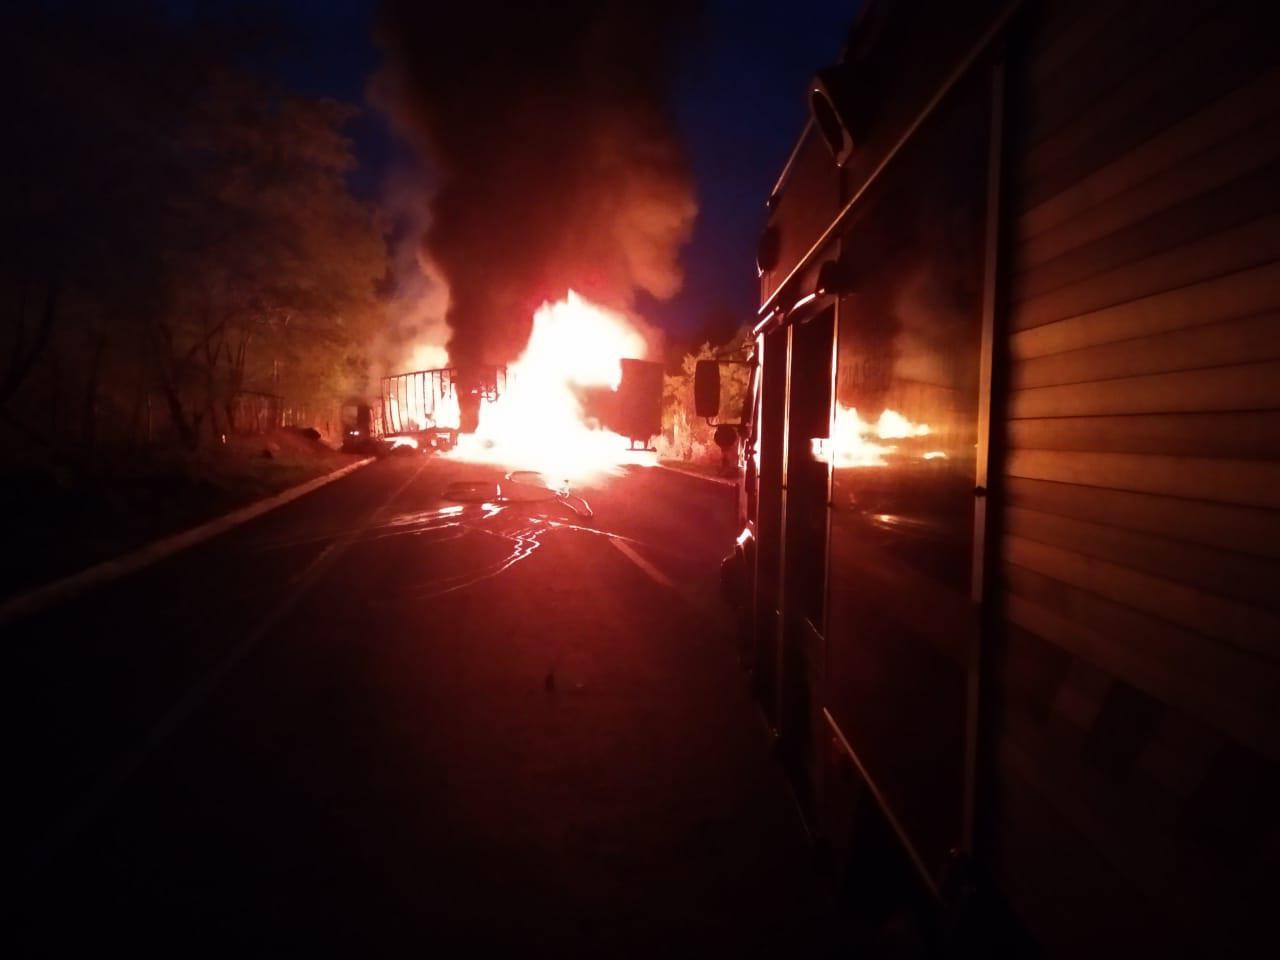Fire: (408, 295, 671, 482)
